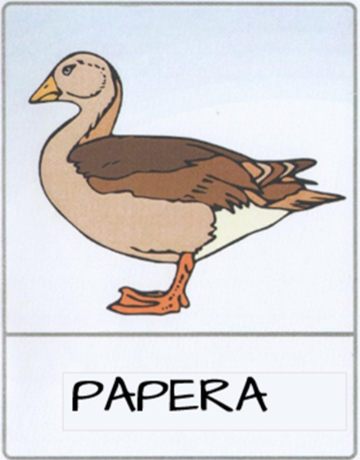papera: (10, 27, 337, 439)
